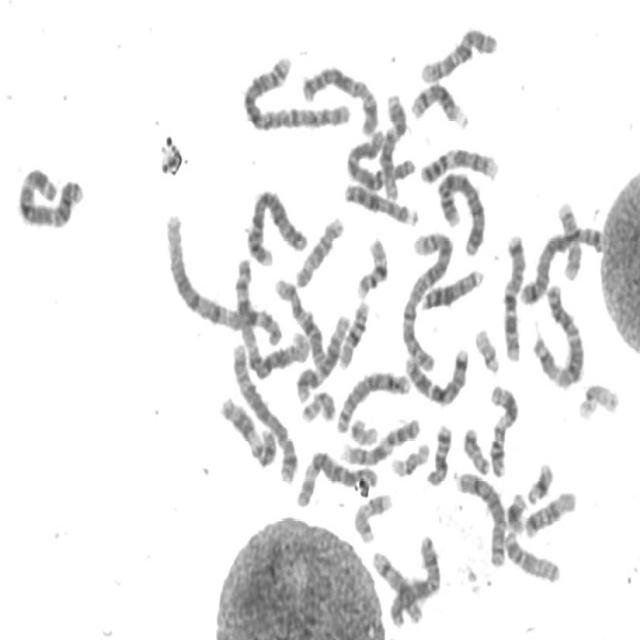A1: (161, 205, 287, 346), (230, 253, 312, 378)
A2: (238, 50, 355, 133), (398, 225, 456, 373)
A3: (528, 276, 586, 390), (13, 160, 86, 230)
B4: (243, 182, 310, 268), (433, 165, 488, 258)
B5: (228, 338, 300, 484), (516, 218, 608, 307)
C10: (271, 270, 329, 369), (416, 20, 500, 86)
C11: (216, 390, 279, 469), (485, 378, 521, 479)
C12: (292, 308, 352, 404), (377, 89, 408, 202)
C6: (292, 444, 380, 511), (341, 121, 417, 195)
C7: (400, 342, 471, 408), (499, 226, 528, 363)
C8: (452, 465, 508, 570), (332, 364, 412, 436)
C9: (338, 412, 422, 467), (416, 140, 501, 186)
D13: (340, 176, 420, 227), (418, 262, 485, 312)
D14: (368, 545, 425, 626), (406, 74, 471, 132)
D15: (290, 208, 346, 290), (500, 523, 563, 586)
E16: (334, 294, 371, 371), (352, 230, 390, 301)
E17: (553, 195, 585, 282), (349, 488, 394, 546)
E18: (520, 484, 579, 540), (422, 417, 454, 488)
F19: (575, 376, 621, 423), (387, 436, 432, 479)
F20: (459, 421, 492, 476), (297, 385, 338, 425)
G21: (523, 455, 556, 507), (502, 487, 528, 534)
G22: (470, 320, 502, 375), (346, 413, 380, 448)
X: (297, 60, 380, 138), (385, 529, 443, 629)
